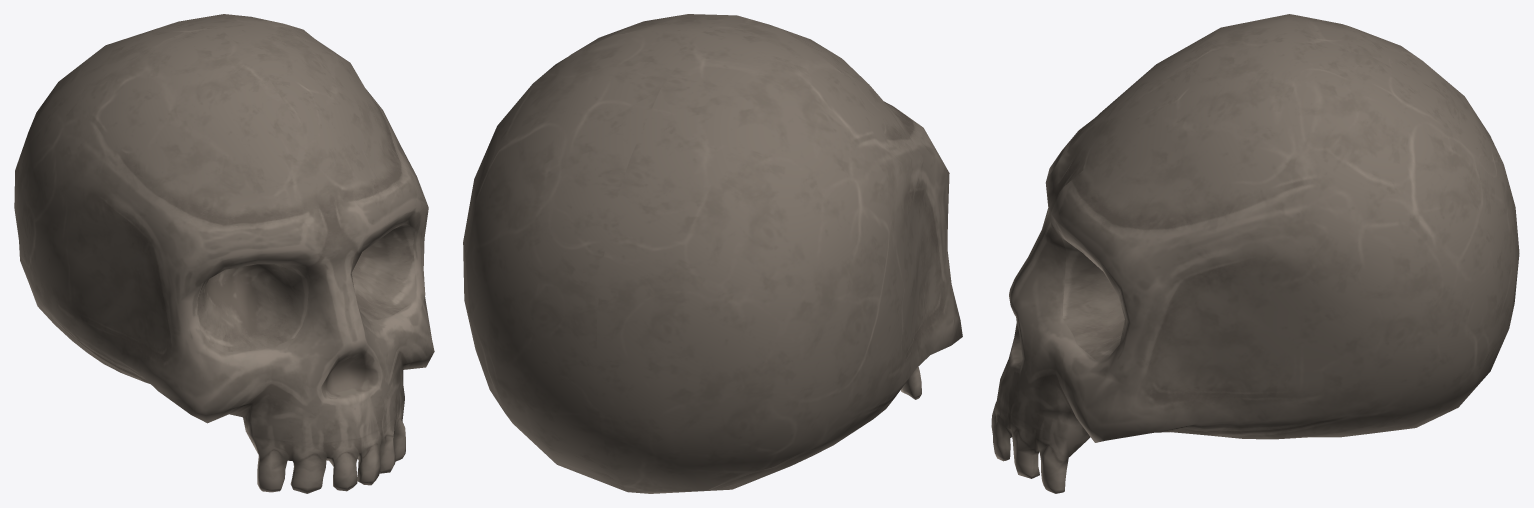
File: Li_TEMP_Skull.FBX
3 renders of one model, left to right at view 1: azimuth 30°, elevation 25°; view 2: azimuth 150°, elevation 25°; view 3: azimuth 270°, elevation 25°, orthographic. The views are drawn at different scales.
Parts seen in each view (by area): view 1: LI_TEMP_Skull_LOD0; view 2: LI_TEMP_Skull_LOD0; view 3: LI_TEMP_Skull_LOD0.
Part boxes in pixels (x1=…): LI_TEMP_Skull_LOD0: x1=14, y1=14, x2=434, y2=493; LI_TEMP_Skull_LOD0: x1=463, y1=14, x2=962, y2=493; LI_TEMP_Skull_LOD0: x1=991, y1=14, x2=1519, y2=493.
Size of what is drawn, in the model's own units: 51.11 by 56.25 by 65.32.
1 material, 1 textured.
